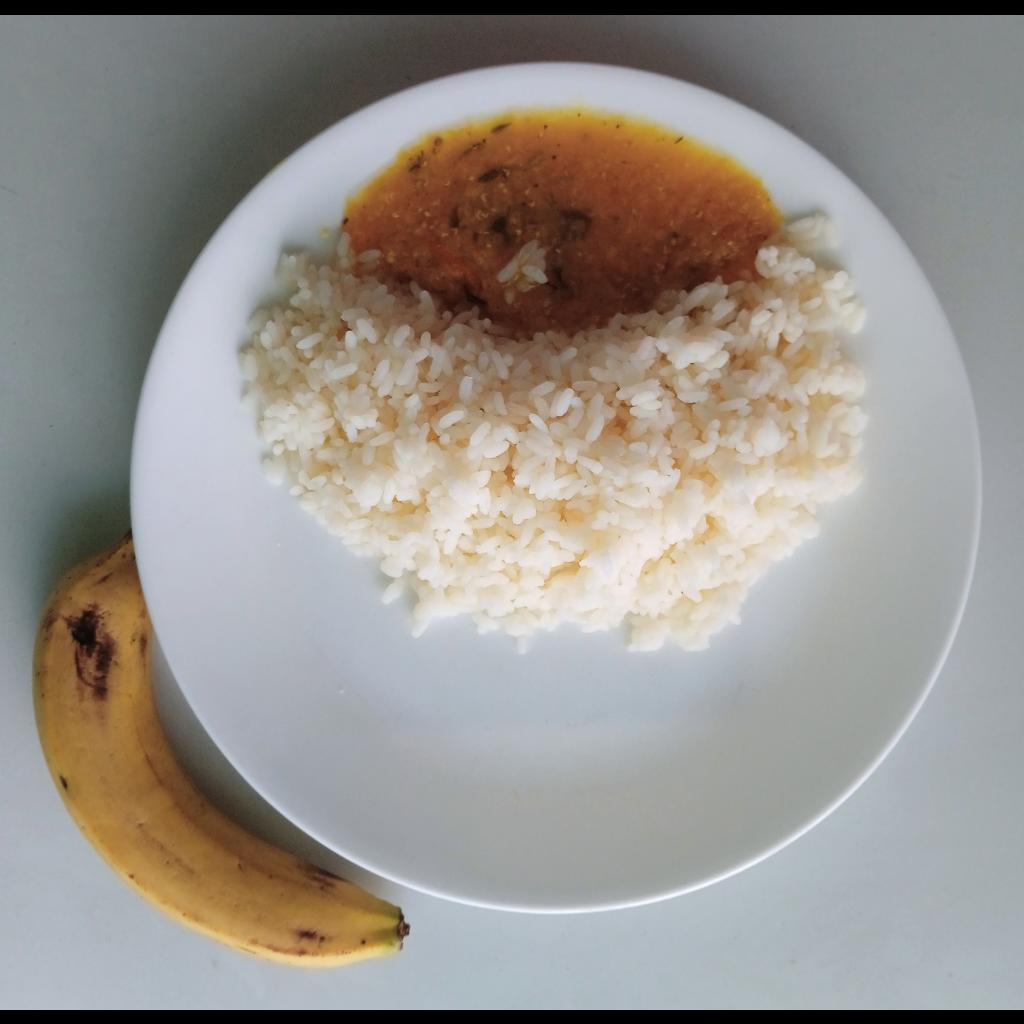banana: (33, 530, 412, 971)
daal: (341, 119, 781, 327)
rice: (236, 208, 869, 656)
